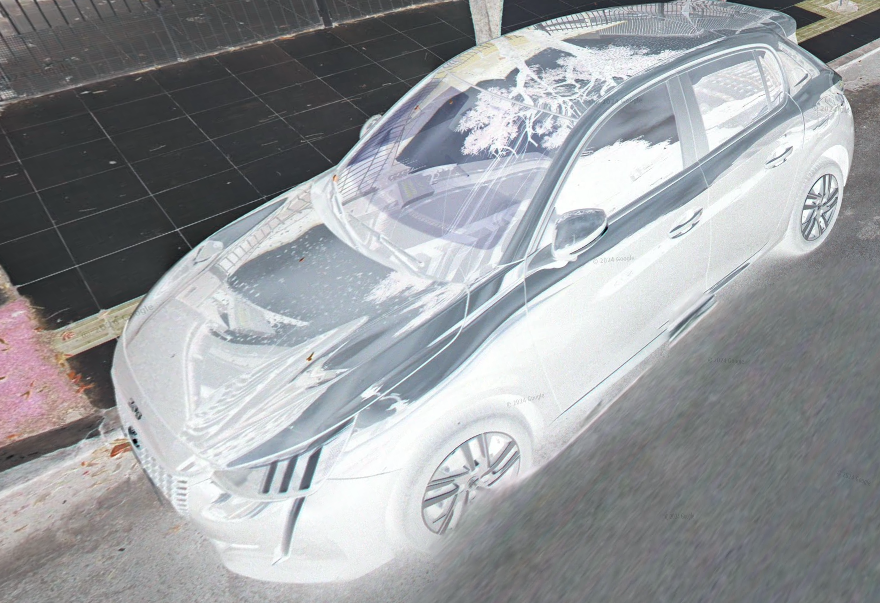car: (110, 11, 854, 582)
